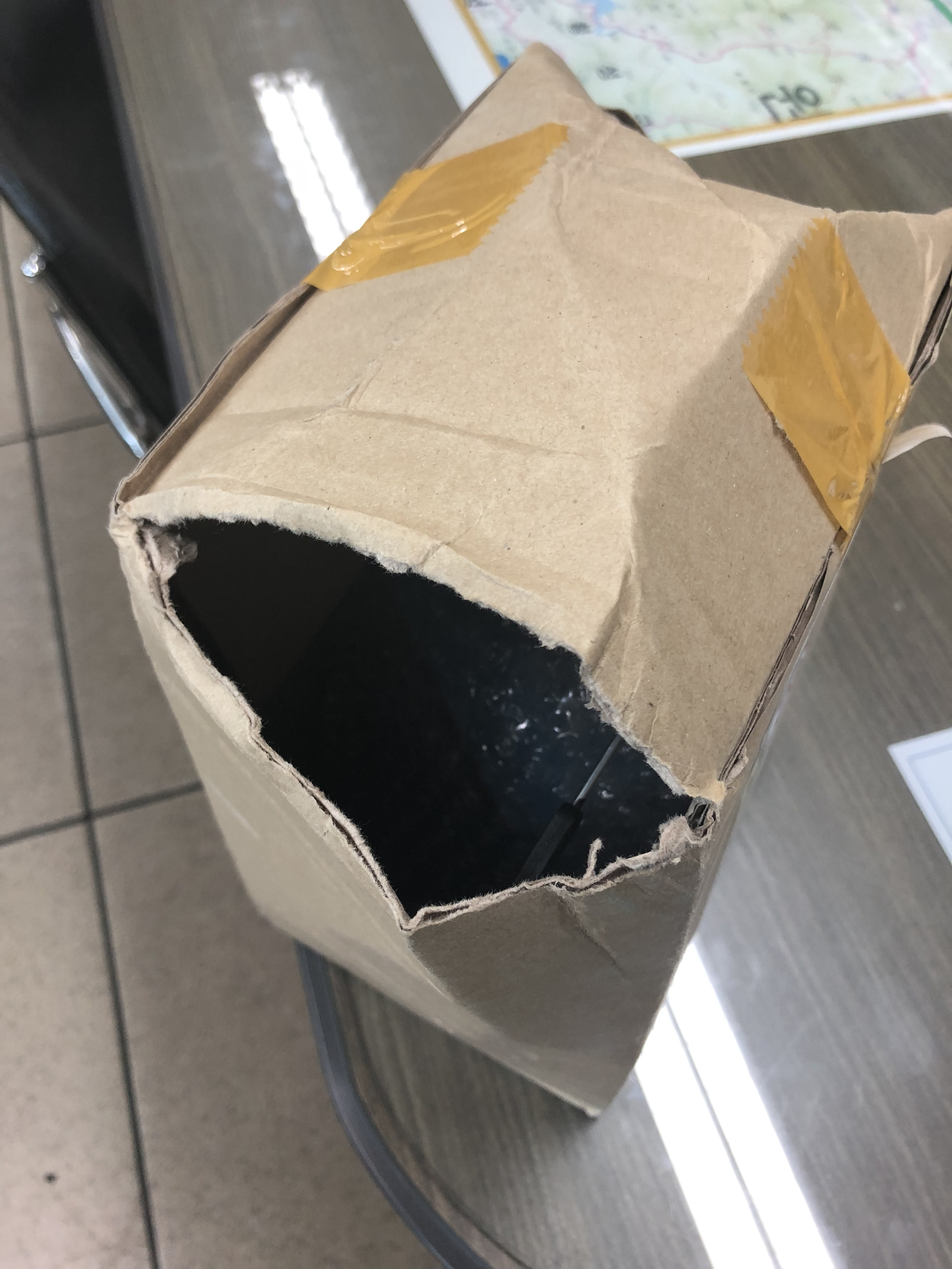damaged package: (132, 511, 736, 941)
